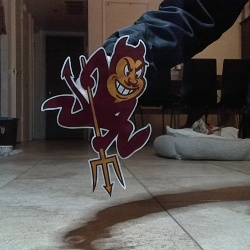sparky: (40, 35, 152, 198)
